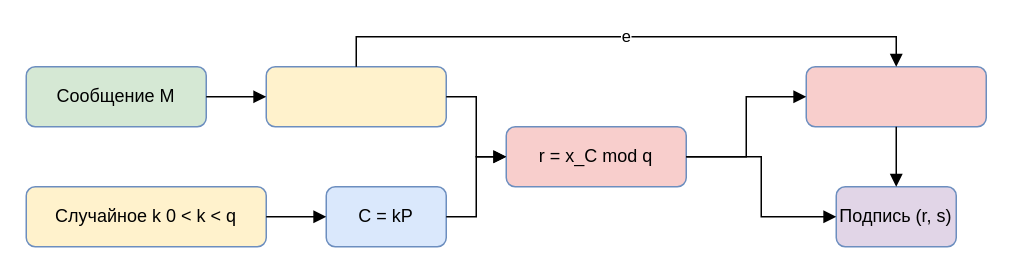
The diagram is 1013 pixels wide and 273 high, and some of its shapes have lost their labels. The centre of each missing label's shape, as x and y in pixels:
alpha = H(M) e = alpha mod q: (355,96)
s = (r*d + k*e) mod q: (895,96)
